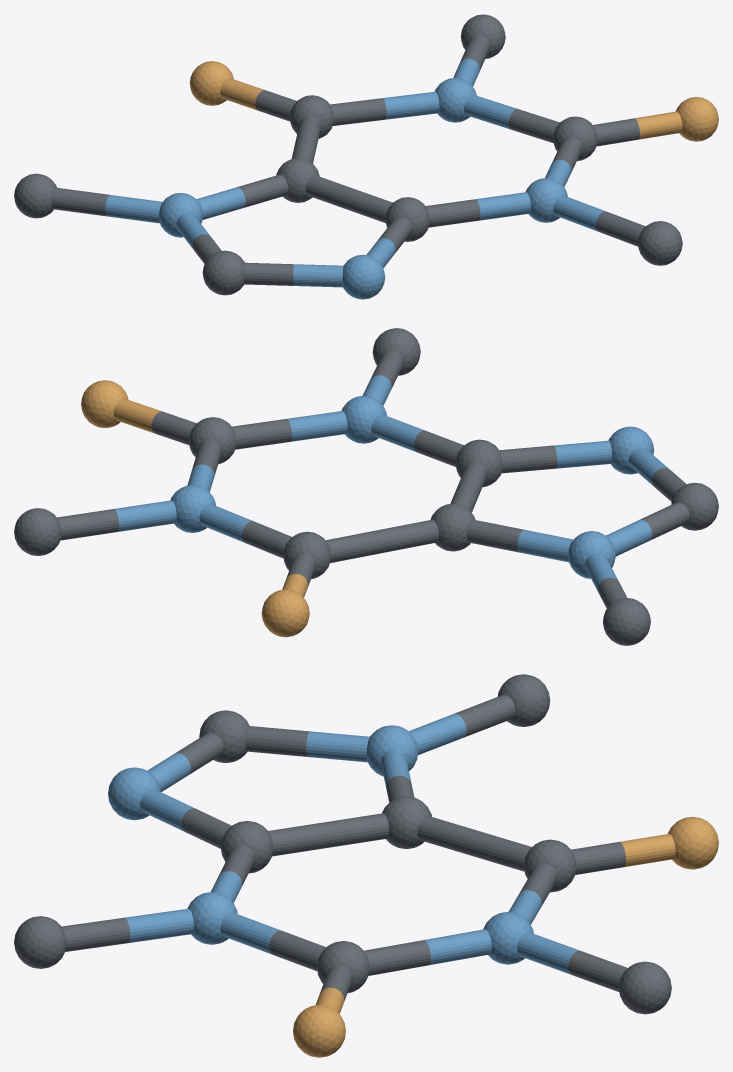
The model's file is caffeine.glb.
The picture shows the model from 3 angles, top to bottom: view 1: azimuth 30°, elevation 25°; view 2: azimuth 150°, elevation 25°; view 3: azimuth 270°, elevation 25°; orthographic projection. The views are drawn at different scales.
Parts seen in each view (by area): view 1: C, N, O; view 2: C, N, O; view 3: C, N, O.
Part boxes in pixels (box(x1,y1,x2,y2)): C: box(14, 14, 682, 295); N: box(105, 58, 605, 299); O: box(189, 61, 718, 141); C: box(14, 328, 718, 645); N: box(114, 375, 668, 591); O: box(81, 380, 309, 637); C: box(14, 674, 671, 1014); N: box(108, 714, 579, 974); O: box(293, 816, 718, 1057).
Bounding box in the file's own units: 0.11 × 0.00703 × 0.0928.
